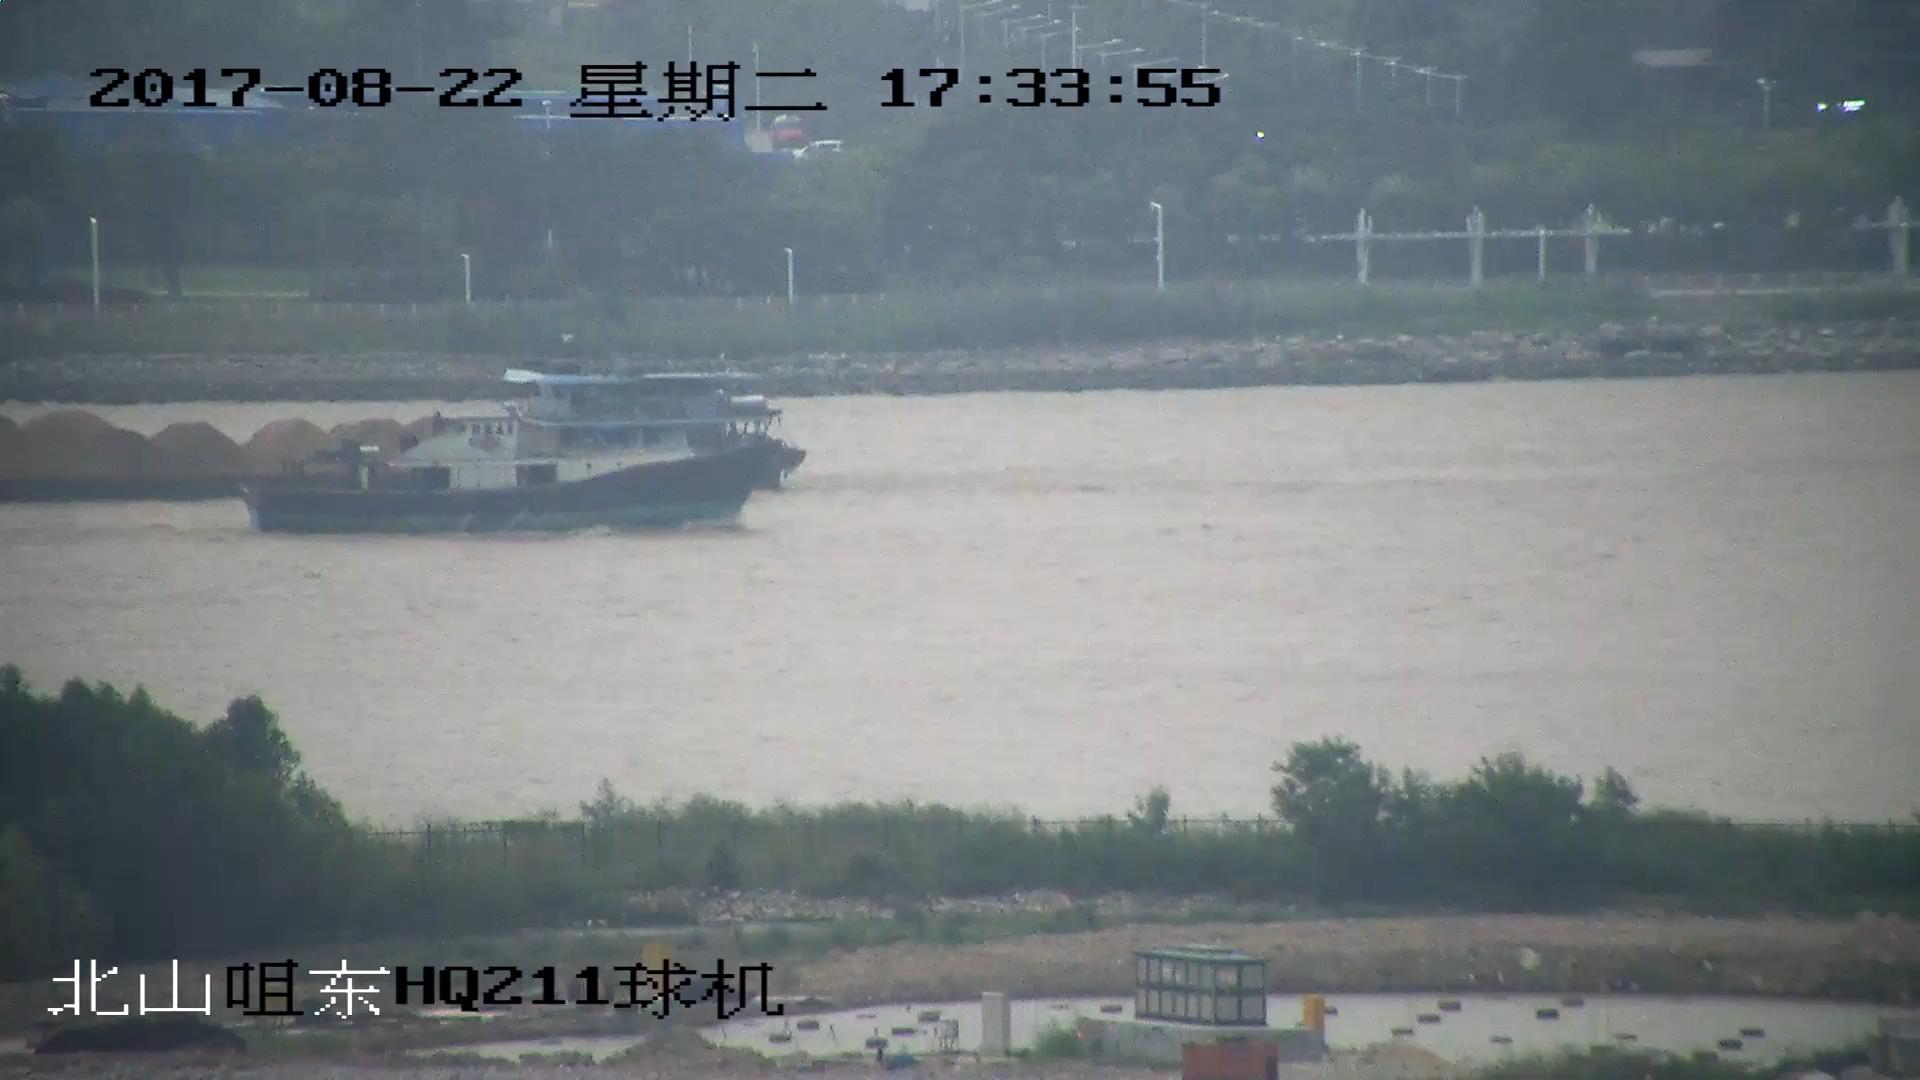Ship: (3, 371, 808, 508), (241, 415, 769, 538)
